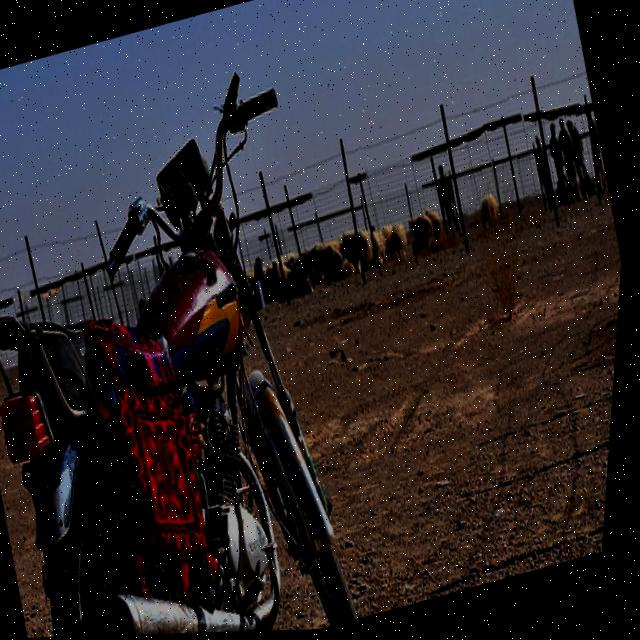motorcycle: (0, 78, 419, 640)
